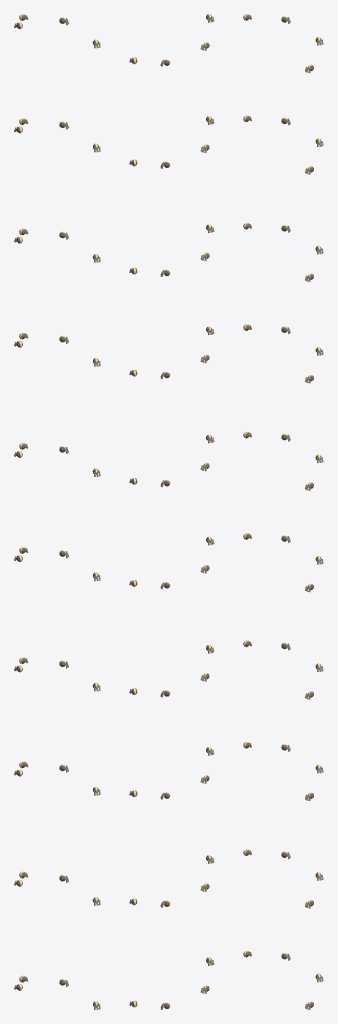
The model's file is Circle4Crowd1.obj.
3 views of the same model, side by side, from view 1: azimuth 30°, elevation 25°; view 2: azimuth 210°, elevation 25°; view 3: azimuth 330°, elevation 25° (orthographic). The views are drawn at different scales.
Parts seen in each view (by area): view 1: Circle4Crowd1; view 2: Circle4Crowd1; view 3: Circle4Crowd1.
Part boxes in pixels (x1,y1,x2,y2): Circle4Crowd1: (14,14,100,1009); Circle4Crowd1: (129,14,214,1009); Circle4Crowd1: (243,14,323,1009).
Bounding box in the file's own units: 26.27 × 326 × 17.33.
1 material, 1 textured.
